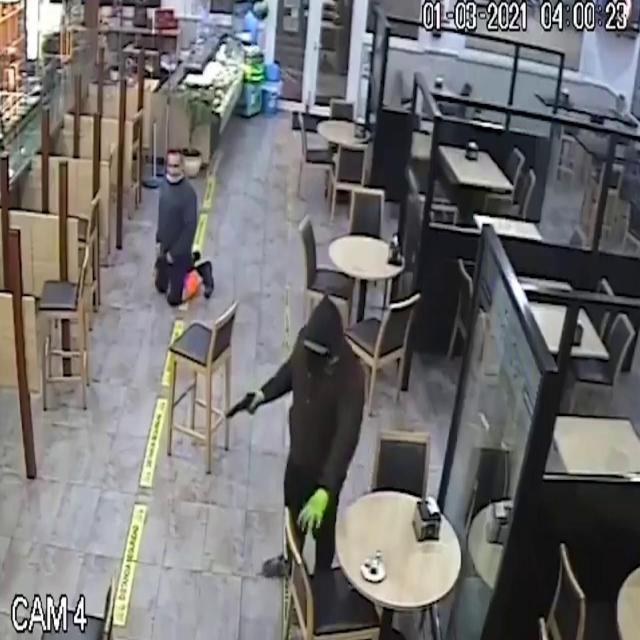weapon: (207, 373, 272, 442)
